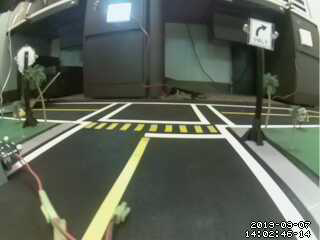Right_only_sign: (244, 12, 276, 51)
